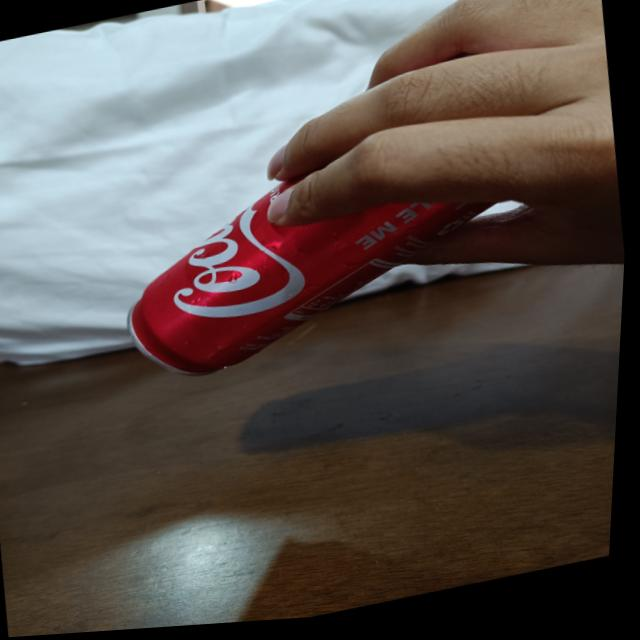coke: (106, 101, 532, 393)
